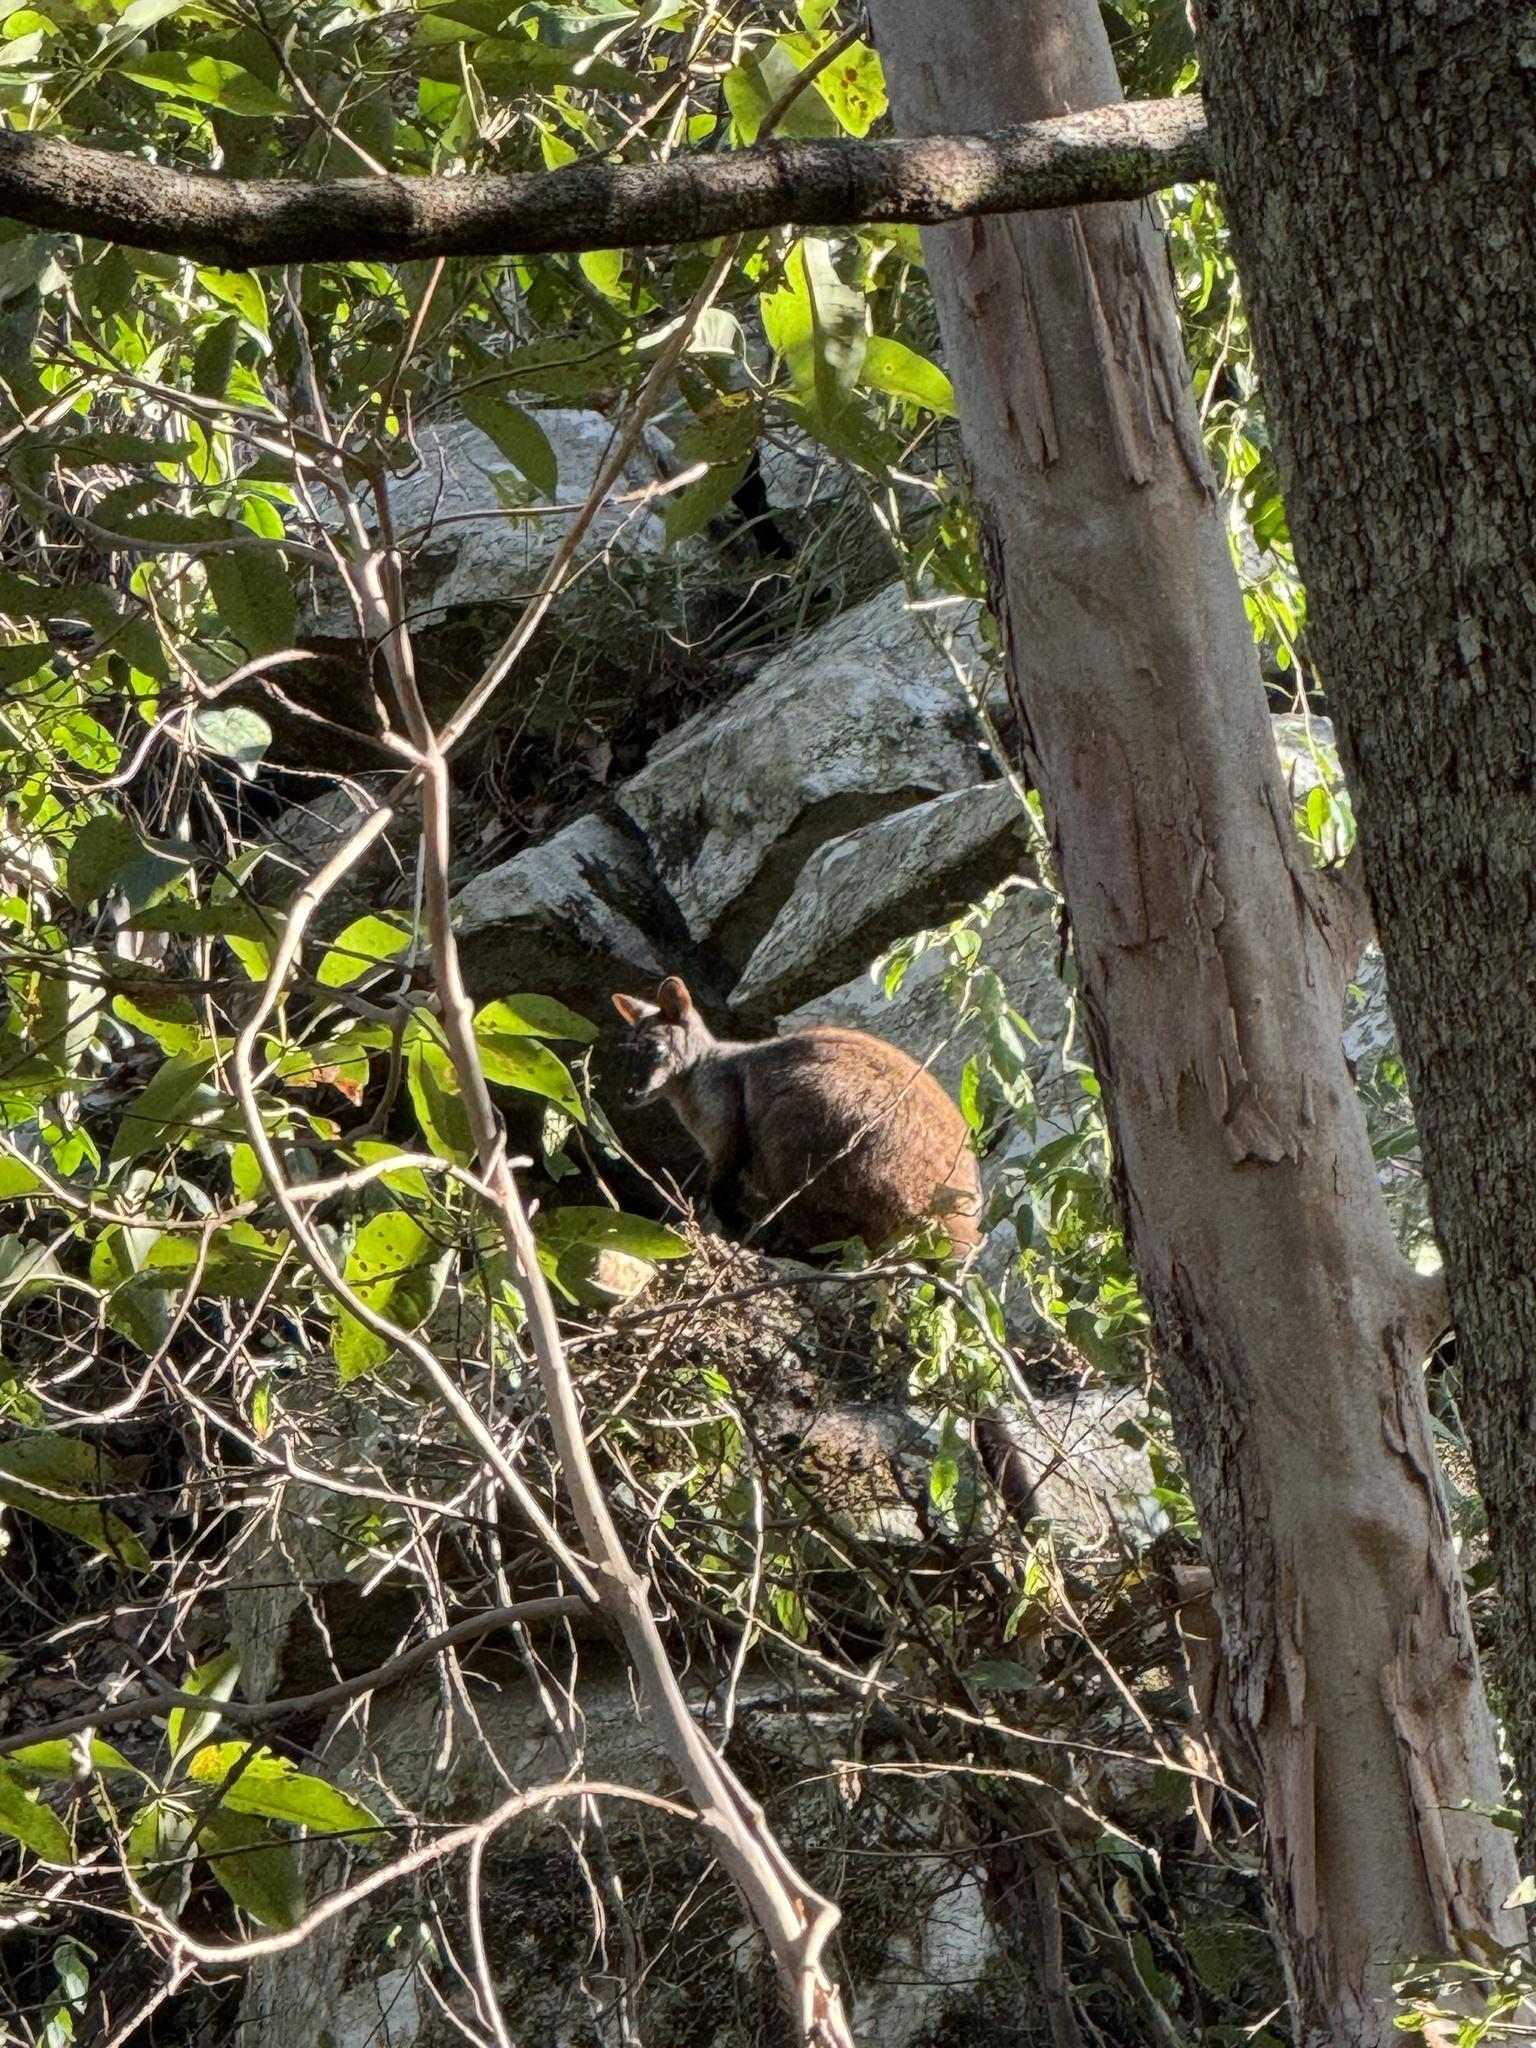Brush-tailed rock-wallaby: (616, 980, 1050, 1550)
